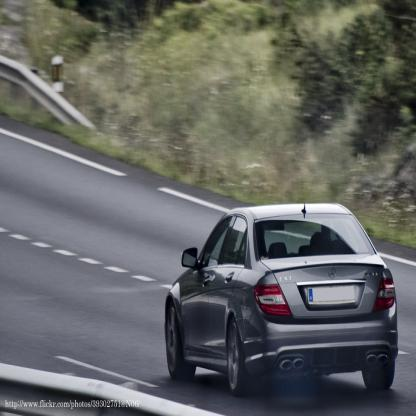car: (156, 208, 397, 400)
